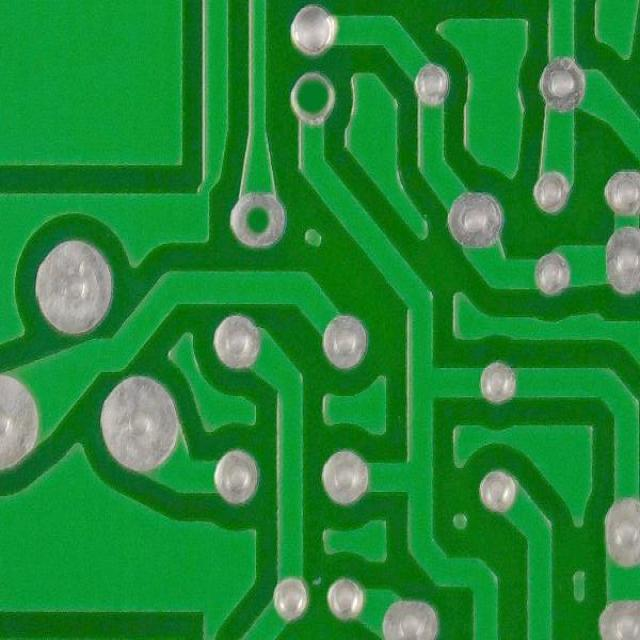missing hole: (227, 185, 291, 252)
